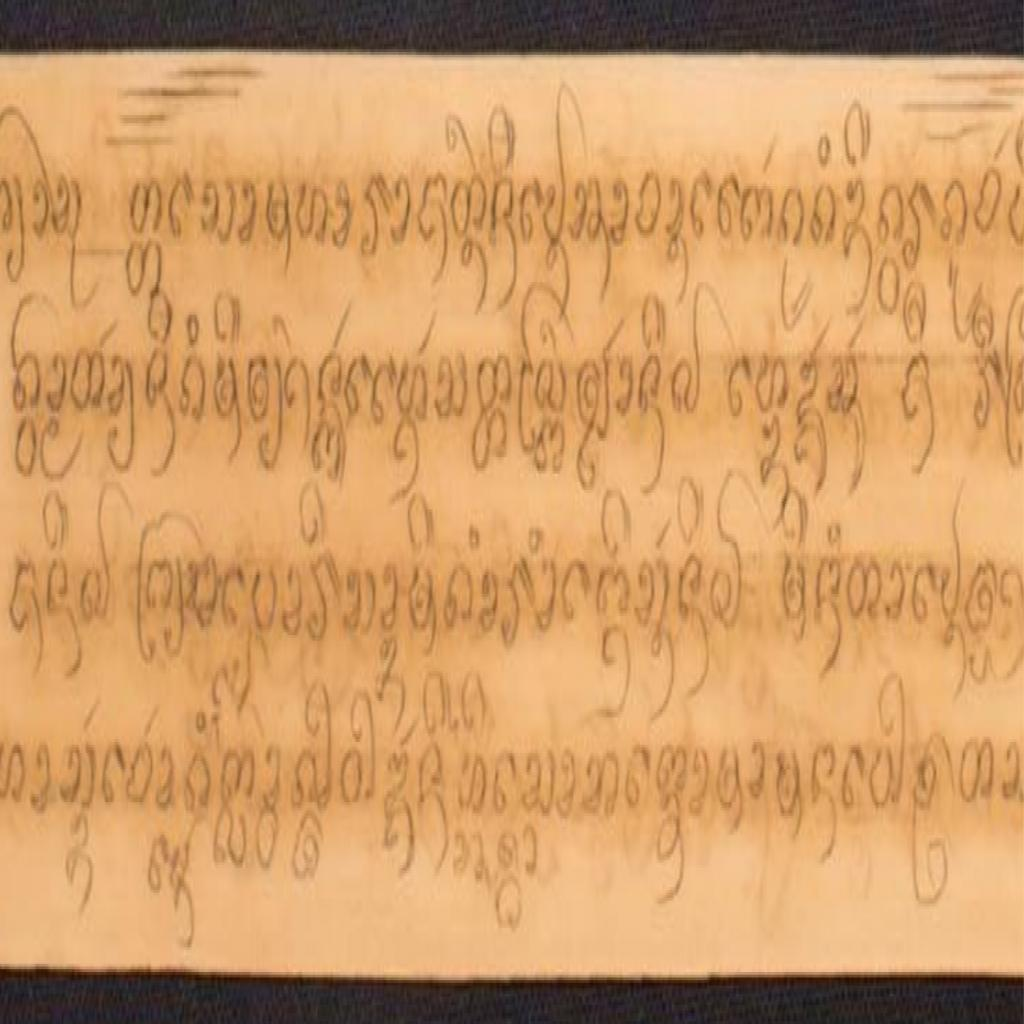LN018: (841, 171, 873, 268)
